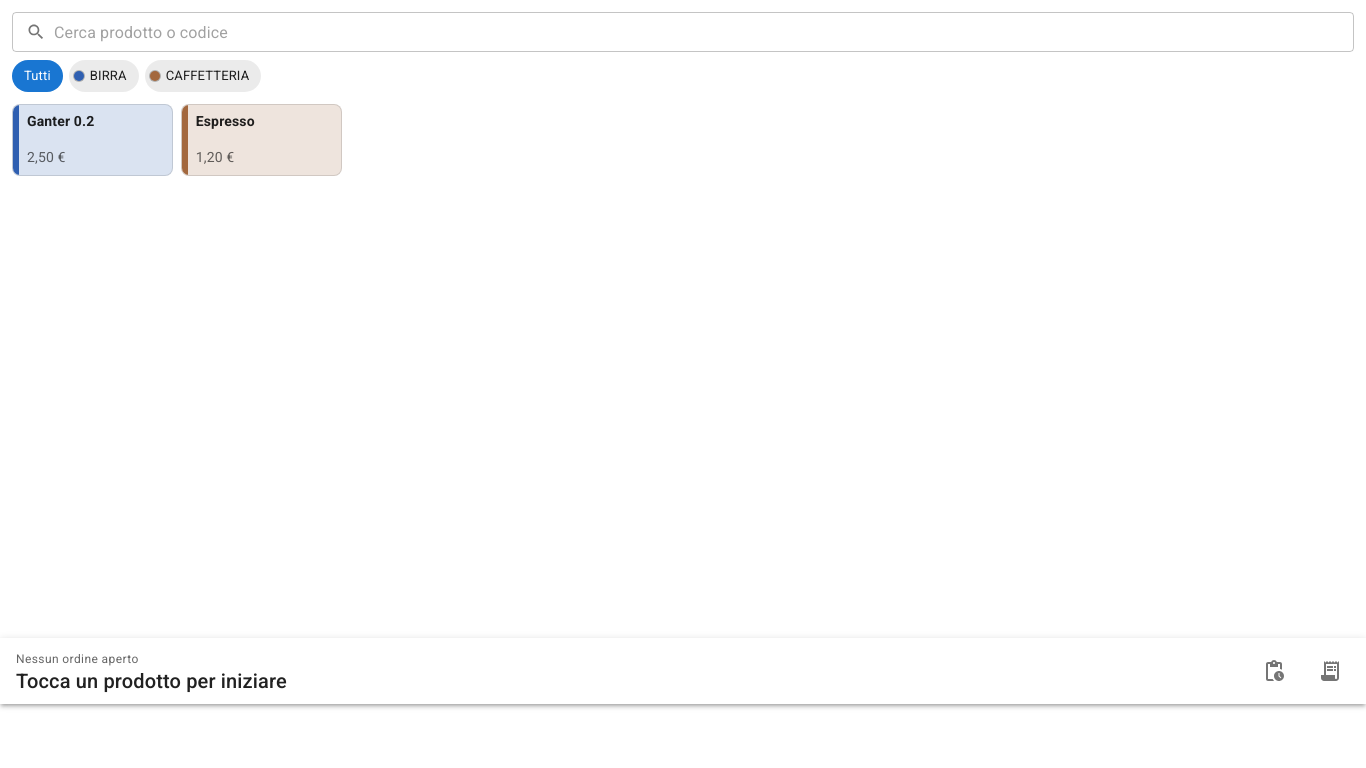
PuntoVendita › ordini in parallelo › mette da parte l'ordine in corso e ne apre un altro
Click the text "Ganter 0.2".
click(61, 122)  # box [27,113,94,130]
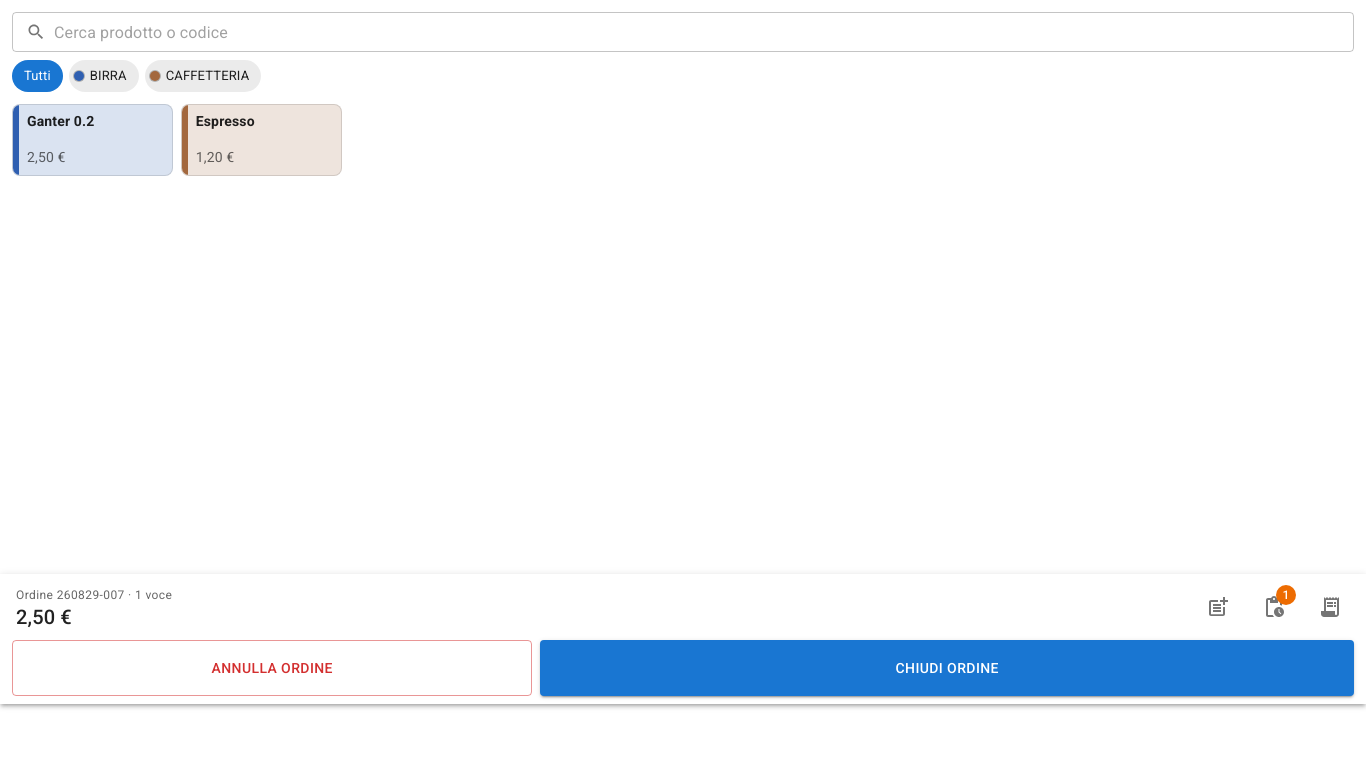
Result: the text "Ordine 260829-007 · 1 voce" is shown at [16,586,172,606]
Click the button named "Nuovo ordine".
click(1218, 607)  # box [1194,583,1242,631]
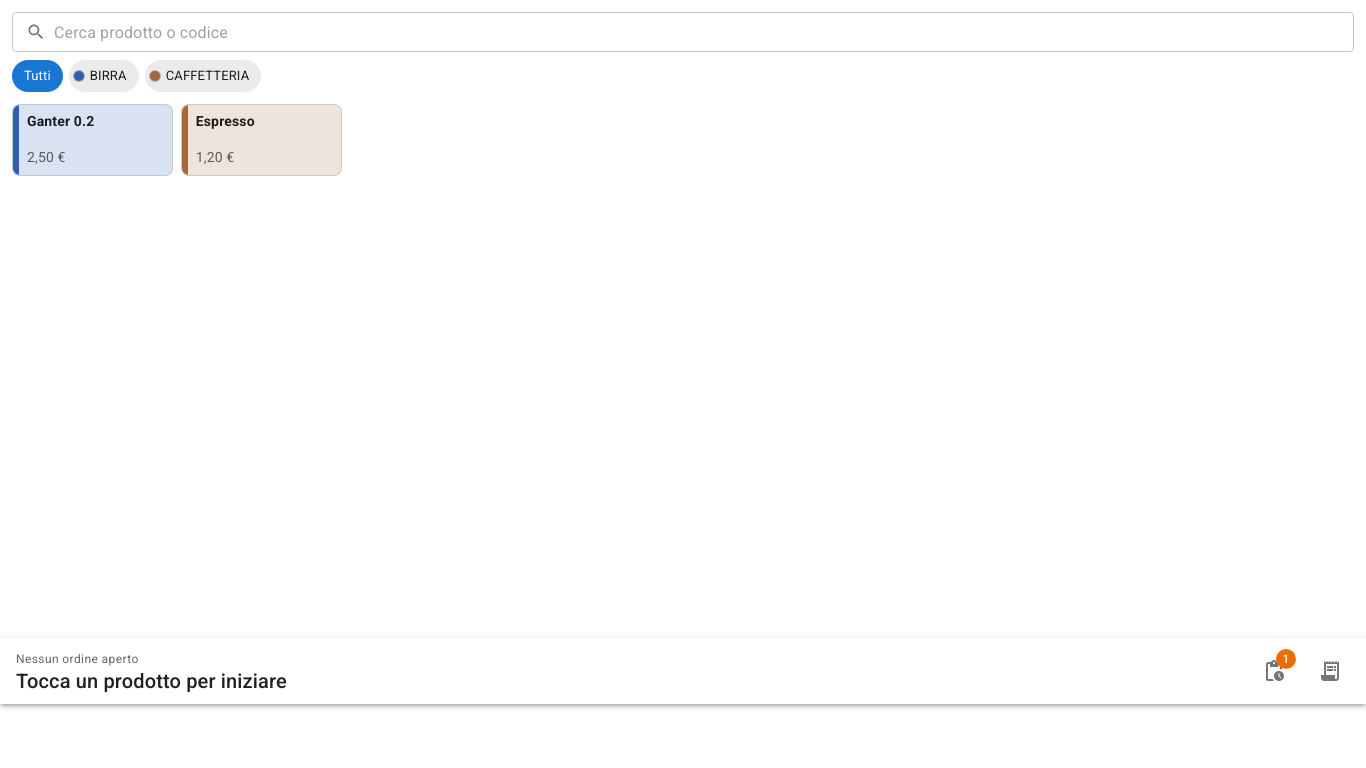
Result: the text "Nessun ordine aperto" is shown at [16,652,139,666]
Click the text "Espresso".
click(225, 122)  # box [196,113,255,130]
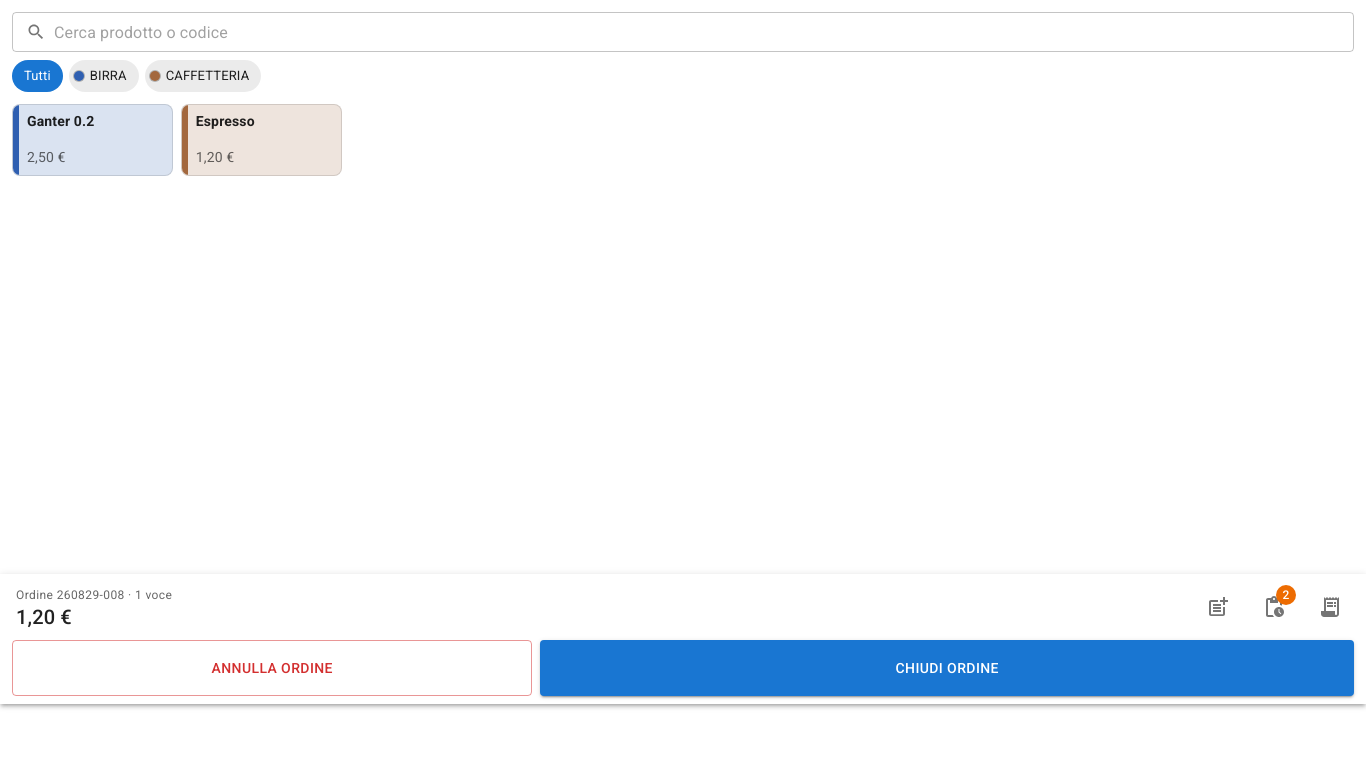
Result: the text "Ordine 260829-008 · 1 voce" is shown at [16,586,172,606]
